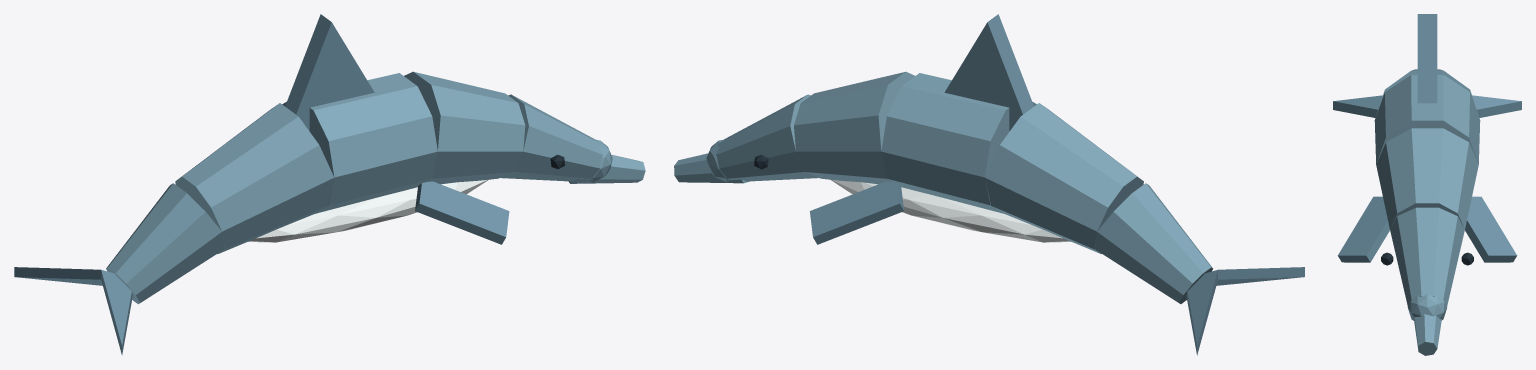
File: bay-dolphin.glb
3 renders of one model, left to right at view 1: azimuth 30°, elevation 25°; view 2: azimuth 150°, elevation 25°; view 3: azimuth 270°, elevation 25°, orthographic. The views are drawn at different scales.
Visible parts, largest first — view 1: GEO-dolphin_body_3, GEO-dolphin_body_2, GEO-dolphin_body_1, GEO-dolphin_body_4, GEO-dolphin_body_0, GEO-dolphin_dorsal, GEO-dolphin_belly, GEO-dolphin_pec_-1, GEO-dolphin_fluke_-1, GEO-dolphin_fluke_1, GEO-dolphin_beak; view 2: GEO-dolphin_body_3, GEO-dolphin_body_2, GEO-dolphin_body_1, GEO-dolphin_body_4, GEO-dolphin_body_0, GEO-dolphin_dorsal, GEO-dolphin_belly, GEO-dolphin_pec_1, GEO-dolphin_fluke_1, GEO-dolphin_fluke_-1, GEO-dolphin_beak; view 3: GEO-dolphin_body_1, GEO-dolphin_body_0, GEO-dolphin_body_2, GEO-dolphin_pec_-1, GEO-dolphin_pec_1, GEO-dolphin_dorsal, GEO-dolphin_beak, GEO-dolphin_fluke_-1, GEO-dolphin_fluke_1, GEO-dolphin_snout, GEO-dolphin_body_3.
Part boxes in pixels (<box>): GEO-dolphin_body_3: <box>175,103,334,253</box>; GEO-dolphin_body_2: <box>282,73,437,213</box>; GEO-dolphin_body_1: <box>404,71,525,184</box>; GEO-dolphin_body_4: <box>106,183,224,304</box>; GEO-dolphin_body_0: <box>500,94,603,181</box>; GEO-dolphin_dorsal: <box>285,14,374,130</box>; GEO-dolphin_belly: <box>248,179,488,242</box>; GEO-dolphin_pec_-1: <box>415,181,509,244</box>; GEO-dolphin_fluke_-1: <box>101,270,132,355</box>; GEO-dolphin_fluke_1: <box>14,267,102,285</box>; GEO-dolphin_beak: <box>568,155,645,183</box>; GEO-dolphin_body_3: <box>985,103,1143,254</box>; GEO-dolphin_body_2: <box>881,73,1036,213</box>; GEO-dolphin_body_1: <box>794,71,914,184</box>; GEO-dolphin_body_4: <box>1095,183,1212,303</box>; GEO-dolphin_body_0: <box>715,94,818,181</box>; GEO-dolphin_dorsal: <box>944,14,1033,130</box>; GEO-dolphin_belly: <box>830,179,1071,242</box>; GEO-dolphin_pec_1: <box>809,181,904,244</box>; GEO-dolphin_fluke_1: <box>1186,270,1217,355</box>; GEO-dolphin_fluke_-1: <box>1216,267,1304,285</box>; GEO-dolphin_beak: <box>674,153,750,183</box>; GEO-dolphin_body_1: <box>1376,128,1478,229</box>; GEO-dolphin_body_0: <box>1390,207,1464,306</box>; GEO-dolphin_body_2: <box>1374,75,1480,164</box>; GEO-dolphin_pec_-1: <box>1337,196,1389,262</box>; GEO-dolphin_pec_1: <box>1465,196,1517,262</box>; GEO-dolphin_dorsal: <box>1417,14,1437,103</box>; GEO-dolphin_beak: <box>1414,314,1441,355</box>; GEO-dolphin_fluke_-1: <box>1333,95,1382,117</box>; GEO-dolphin_fluke_1: <box>1472,95,1521,117</box>; GEO-dolphin_snout: <box>1407,294,1447,321</box>; GEO-dolphin_body_3: <box>1376,69,1478,114</box>.
Size of the model in its own units: 2.09 by 0.8333 by 0.68.
